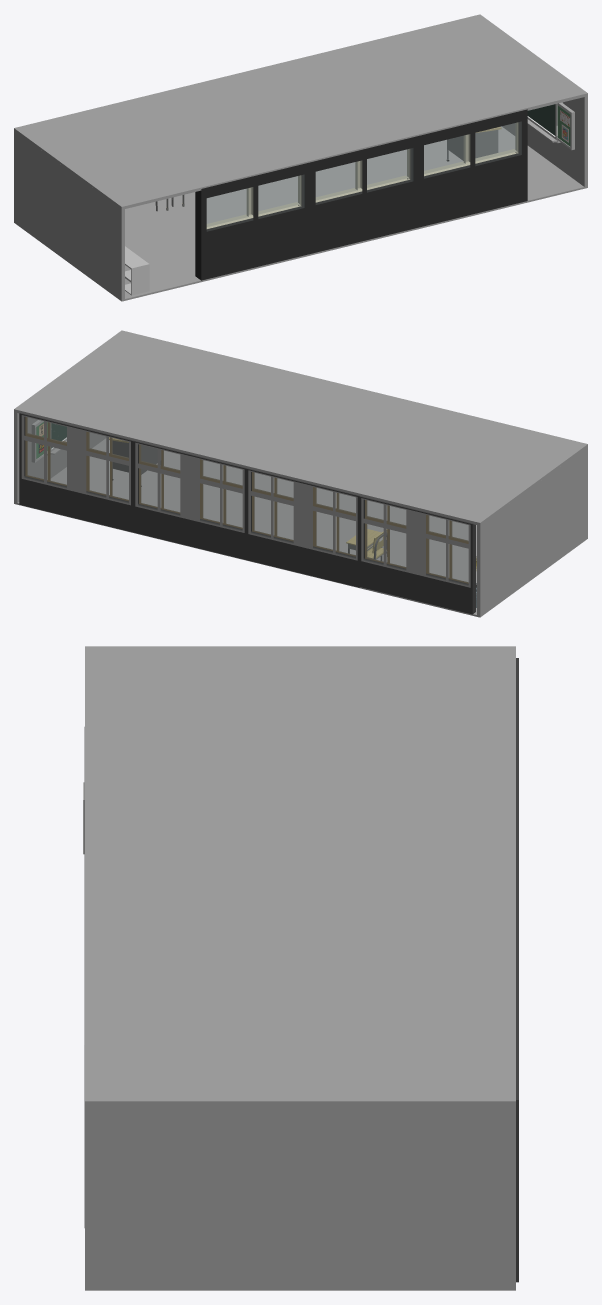
Rendered from LV1_Layout.fbx.
3 views of the same model, one above another, from view 1: azimuth 30°, elevation 25°; view 2: azimuth 150°, elevation 25°; view 3: azimuth 270°, elevation 25° (orthographic). The views are drawn at different scales.
Parts seen in each view (by area): view 1: pCube22, pCube23, Wall2_LookingintoHallway:pCube1, pCube7, pCube24, pCube6, pCube25, School_Blackboard_model:pCube2, School_Bag_Cupboard:pCube1, Lv1_TeacherLectern:Tableleg5; view 2: pCube22, pCube23, pCube1, pCube4, pCube5, pCube3, pCube24, pCube25, School_Blackboard_model:pCube2, Lv1_TeacherLectern:Tableleg5; view 3: pCube22, pCube25, pCube23, pCube5.
Boxes of the visible parts, x1,y1,x2,y2 form: pCube22: (14,14,587,209); pCube23: (14,126,587,301); Wall2_LookingintoHallway:pCube1: (195,162,310,280); pCube7: (412,109,527,227); pCube24: (14,130,124,299); pCube6: (304,136,419,253); pCube25: (502,96,587,186); School_Blackboard_model:pCube2: (527,102,574,150); School_Bag_Cupboard:pCube1: (125,246,149,295); Lv1_TeacherLectern:Tableleg5: (446,127,501,161); pCube22: (14,330,587,525); pCube23: (14,438,587,617); pCube1: (358,496,476,614); pCube4: (132,440,246,559); pCube5: (19,413,132,532); pCube3: (246,468,363,587); pCube24: (477,446,587,615); pCube25: (14,412,106,502); School_Blackboard_model:pCube2: (31,420,66,462); Lv1_TeacherLectern:Tableleg5: (109,437,161,486); pCube22: (85,646,515,1107); pCube25: (85,1107,515,1287); pCube23: (85,1287,515,1290); pCube5: (516,989,518,1282).
Size of the model in its own units: 18.74 by 3.64 by 7.59.
